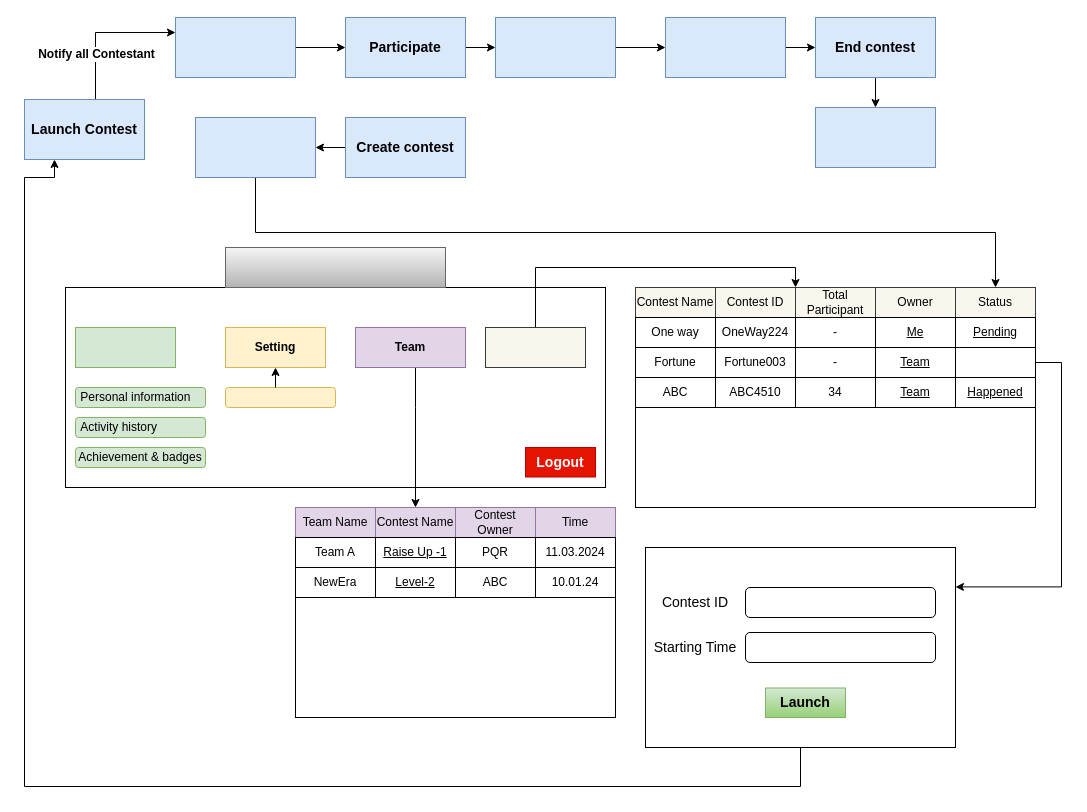
Image size: 1087x812. Some labels were removed from this diagram. Here are the shapes that lost their labels. From the top down, the box of each, then its label:
(174, 16, 296, 78): Notification
(494, 16, 616, 78): Start Contest
(664, 16, 786, 78): Leaderboard
(194, 116, 316, 178): Admin approval
(814, 106, 936, 168): Participant Profile updated
(224, 246, 446, 288): Problem-Setter user profile
(74, 326, 176, 368): Profile overview
(484, 326, 586, 368): Problem setting history
(954, 346, 1036, 378): Approved
(224, 386, 336, 408): For updating info
